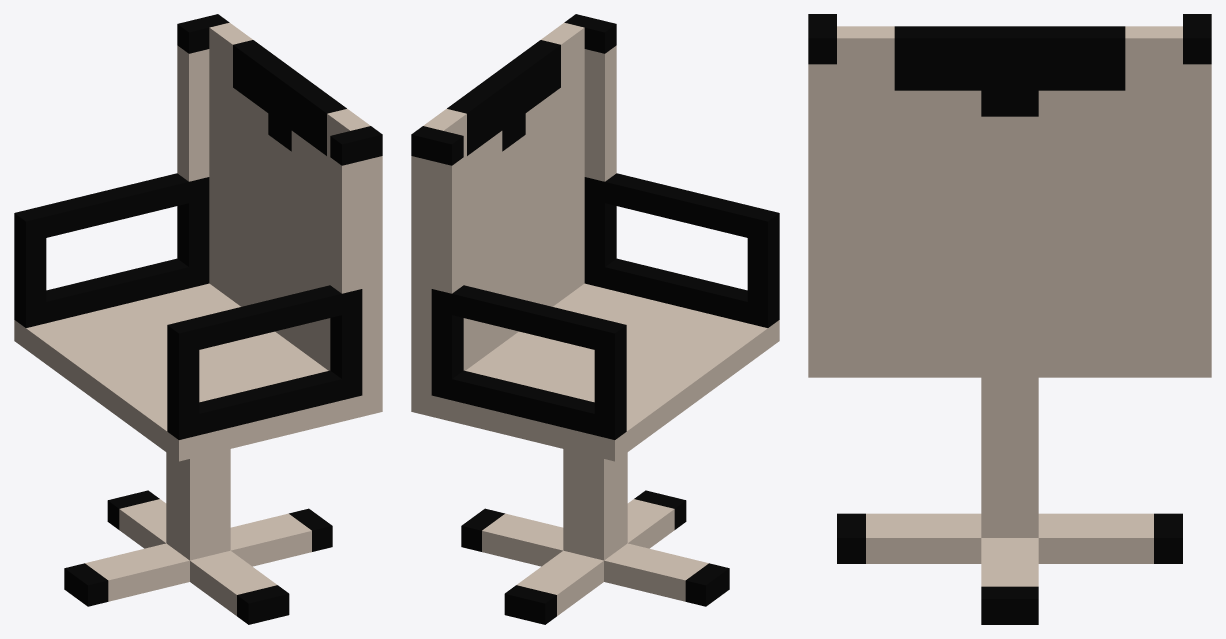
File: officeChair2.obj
3 views of the same model, side by side, from view 1: azimuth 30°, elevation 25°; view 2: azimuth 150°, elevation 25°; view 3: azimuth 270°, elevation 25° (orthographic). The views are drawn at different scales.
Size of the model in its own units: 1.2 by 2.2 by 1.4.
1 material, 1 textured.
